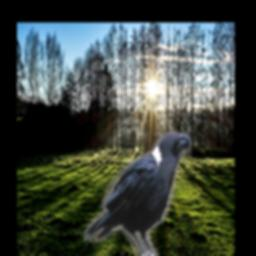Crow: (84, 132, 192, 256)
